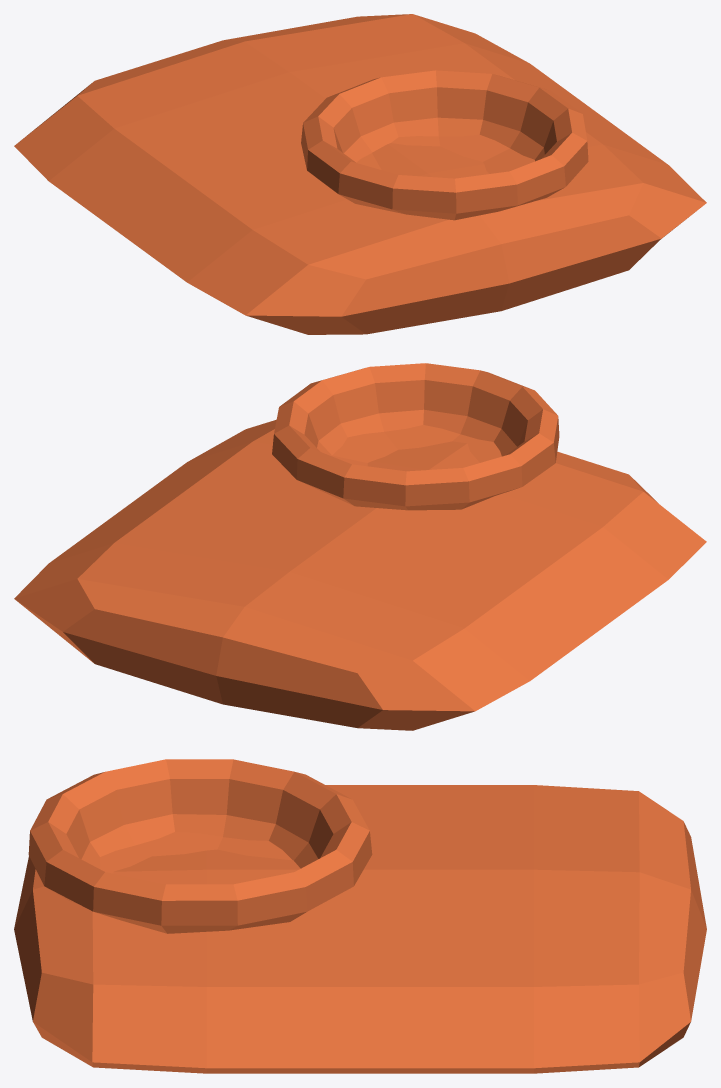
Rendered from Shirt.fbx.
3 renders of one model, top to bottom at view 1: azimuth 30°, elevation 25°; view 2: azimuth 150°, elevation 25°; view 3: azimuth 270°, elevation 25°, orthographic. The views are drawn at different scales.
Visible parts, largest first — view 1: Shirt; view 2: Shirt; view 3: Shirt.
Boxes of the visible parts, bbox=[...] form: Shirt: bbox=[14, 14, 706, 334]; Shirt: bbox=[14, 363, 706, 730]; Shirt: bbox=[14, 759, 706, 1073].
Bounding box in the file's own units: 116 × 34 × 122.
